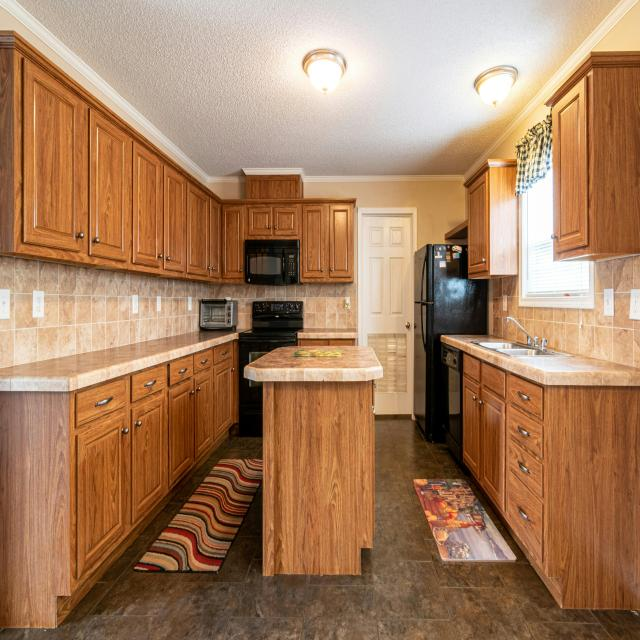Appliance_Dishwasher: (445, 349, 463, 463)
Appliance_Fridge: (415, 243, 489, 445)
Appliance_Microwave: (243, 238, 299, 286)
Appliance_Oven: (239, 301, 304, 438)
Cabinet_Flat: (463, 356, 547, 569), (69, 342, 237, 431), (298, 339, 357, 347)
Cabinet_Raised_Panel: (14, 56, 356, 285), (77, 362, 239, 580), (550, 75, 591, 259), (461, 378, 506, 513), (465, 167, 491, 282)
Countertop_Marble: (0, 331, 240, 392), (443, 334, 640, 387), (244, 346, 384, 382), (300, 329, 358, 338)
